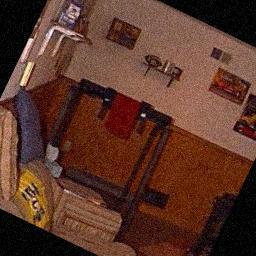Otro Obstaculo: (37, 77, 182, 218)
